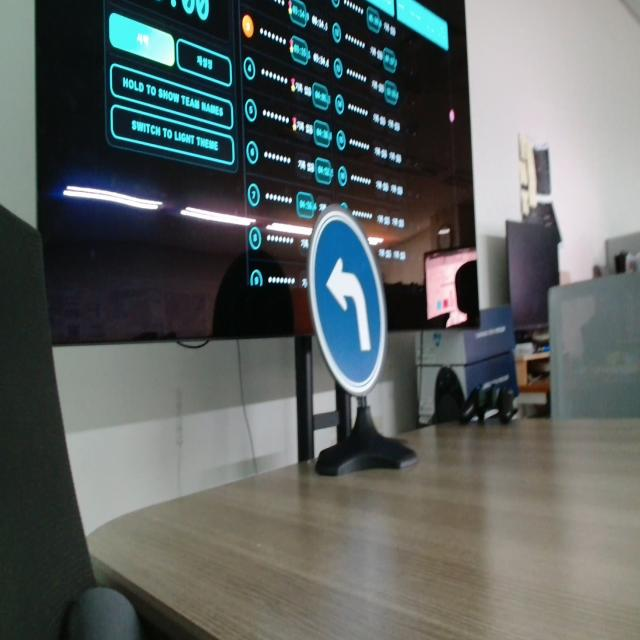left_direction: (300, 207, 392, 395)
